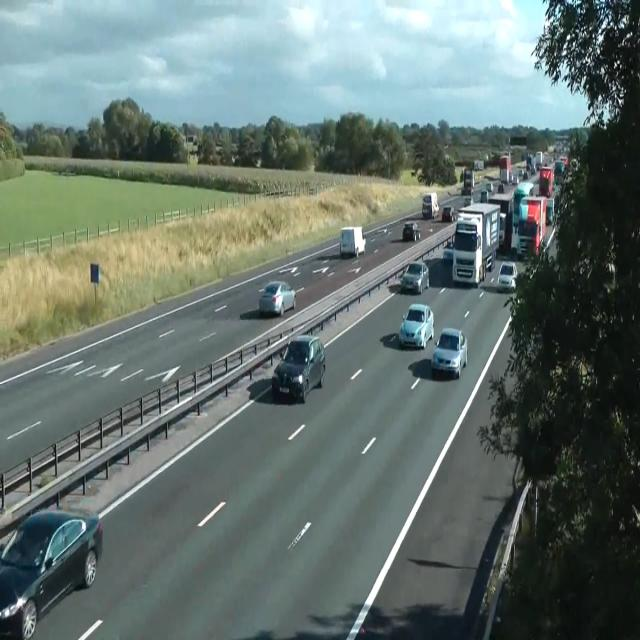bus: (0, 507, 102, 639), (272, 334, 326, 403), (430, 327, 468, 379), (398, 303, 434, 349), (258, 280, 296, 316), (400, 260, 429, 294), (497, 260, 518, 292), (402, 221, 420, 241), (498, 212, 506, 248), (554, 160, 566, 181), (442, 242, 453, 261), (442, 206, 454, 222), (486, 181, 493, 192)
car: (452, 201, 501, 286), (516, 194, 546, 258)
minibus: (488, 181, 534, 255), (339, 226, 365, 258), (539, 166, 554, 198), (421, 193, 439, 219), (462, 167, 474, 195), (499, 155, 511, 183), (535, 151, 543, 170), (474, 160, 484, 171)
